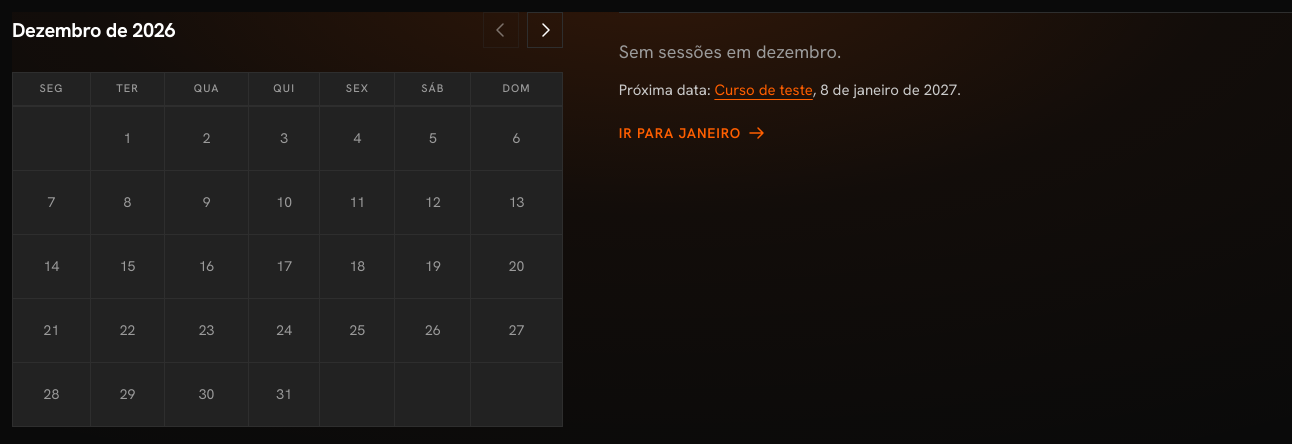
Test case: CourseCalendar › rolls December forward into January of the next year
Expected: the text "Dezembro de 2026" is shown, [12,20,175,40]
Click the button named "Mês seguinte" at x=545, y=30, box [527,12,563,48]
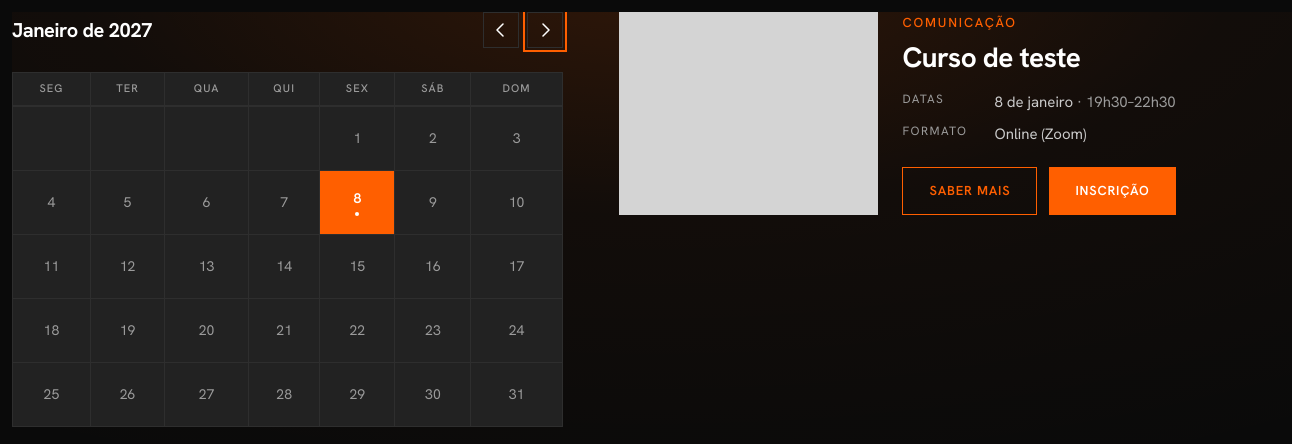
Expected: the text "Janeiro de 2027" is shown, [12,20,152,40]
